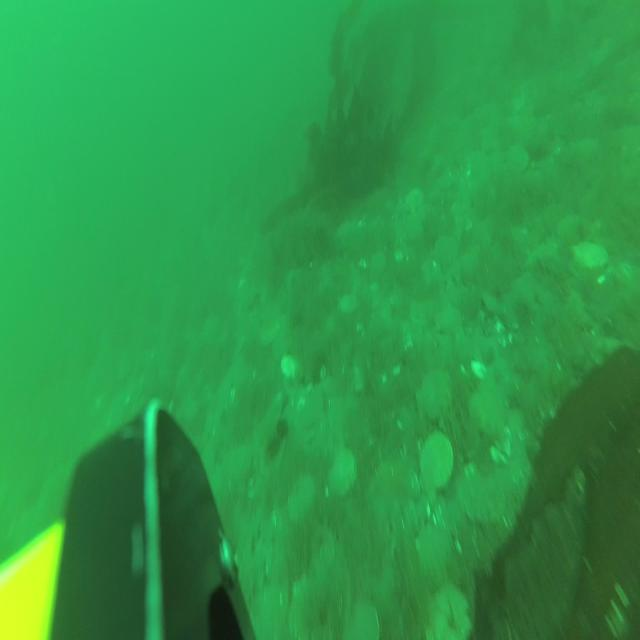scallop: (427, 588, 470, 640), (419, 430, 454, 489), (417, 368, 450, 421), (471, 380, 502, 432), (341, 599, 377, 640), (328, 449, 358, 497), (418, 523, 448, 570), (467, 477, 495, 526), (287, 476, 316, 523), (574, 236, 610, 272), (396, 211, 421, 247), (506, 147, 530, 177), (336, 291, 359, 318)
